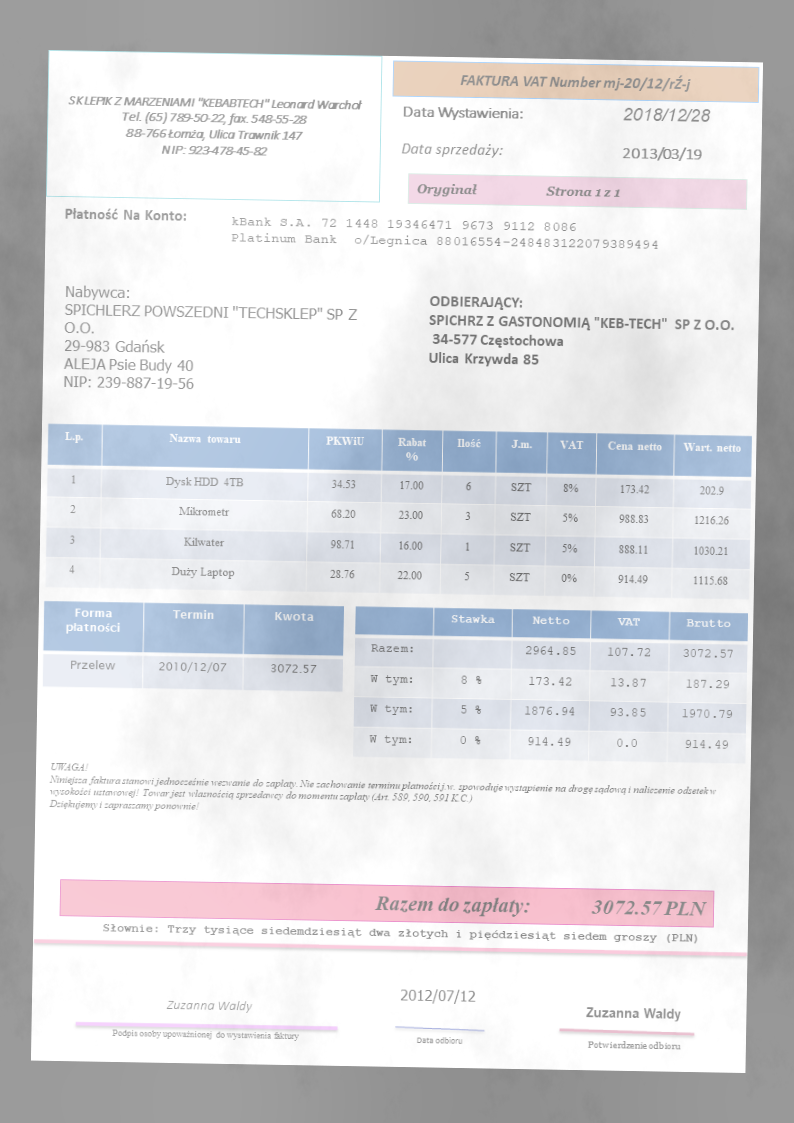Table: (43, 419, 755, 602), (350, 603, 751, 765), (41, 597, 346, 693)
TextBox: (47, 758, 721, 823), (61, 282, 360, 397), (424, 291, 737, 373), (65, 91, 366, 163), (227, 212, 662, 253), (100, 920, 700, 946), (371, 889, 710, 922), (457, 71, 694, 94), (414, 179, 623, 204), (109, 1024, 302, 1044), (399, 100, 527, 125), (396, 137, 507, 161), (62, 205, 191, 224), (621, 103, 713, 128), (582, 1001, 685, 1023), (586, 1034, 683, 1055), (161, 994, 255, 1015), (395, 984, 478, 1006), (618, 144, 705, 164), (413, 1030, 465, 1049)
